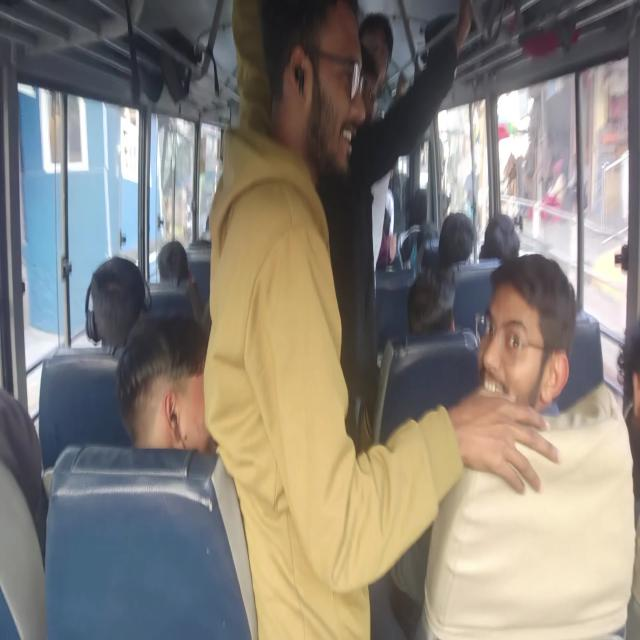person: (122, 331, 248, 476), (267, 23, 385, 175), (485, 286, 585, 440), (83, 258, 185, 362), (0, 360, 49, 551), (340, 30, 395, 140), (337, 0, 400, 70), (488, 212, 531, 285), (162, 223, 208, 288), (417, 280, 458, 348), (621, 313, 640, 458), (446, 214, 482, 272)
